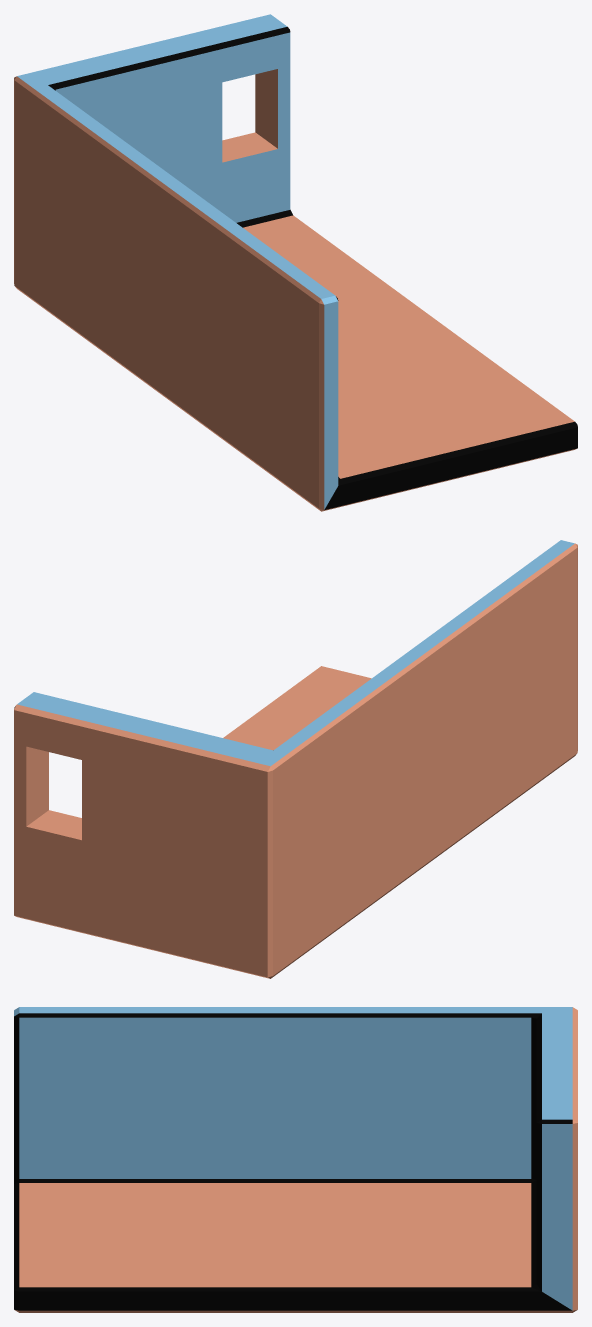
Rendered from SingleRoom.glb.
The picture shows the model from 3 angles, top to bottom: view 1: azimuth 30°, elevation 25°; view 2: azimuth 150°, elevation 25°; view 3: azimuth 270°, elevation 25°; orthographic projection. The views are drawn at different scales.
Parts seen in each view (by area): view 1: Plane; view 2: Plane; view 3: Plane.
Part boxes in pixels (<box>): Plane: <box>14,14,577,511</box>; Plane: <box>14,540,577,978</box>; Plane: <box>14,1007,577,1312</box>.
Size of the model in its own units: 5.16 by 4.06 by 10.73.
